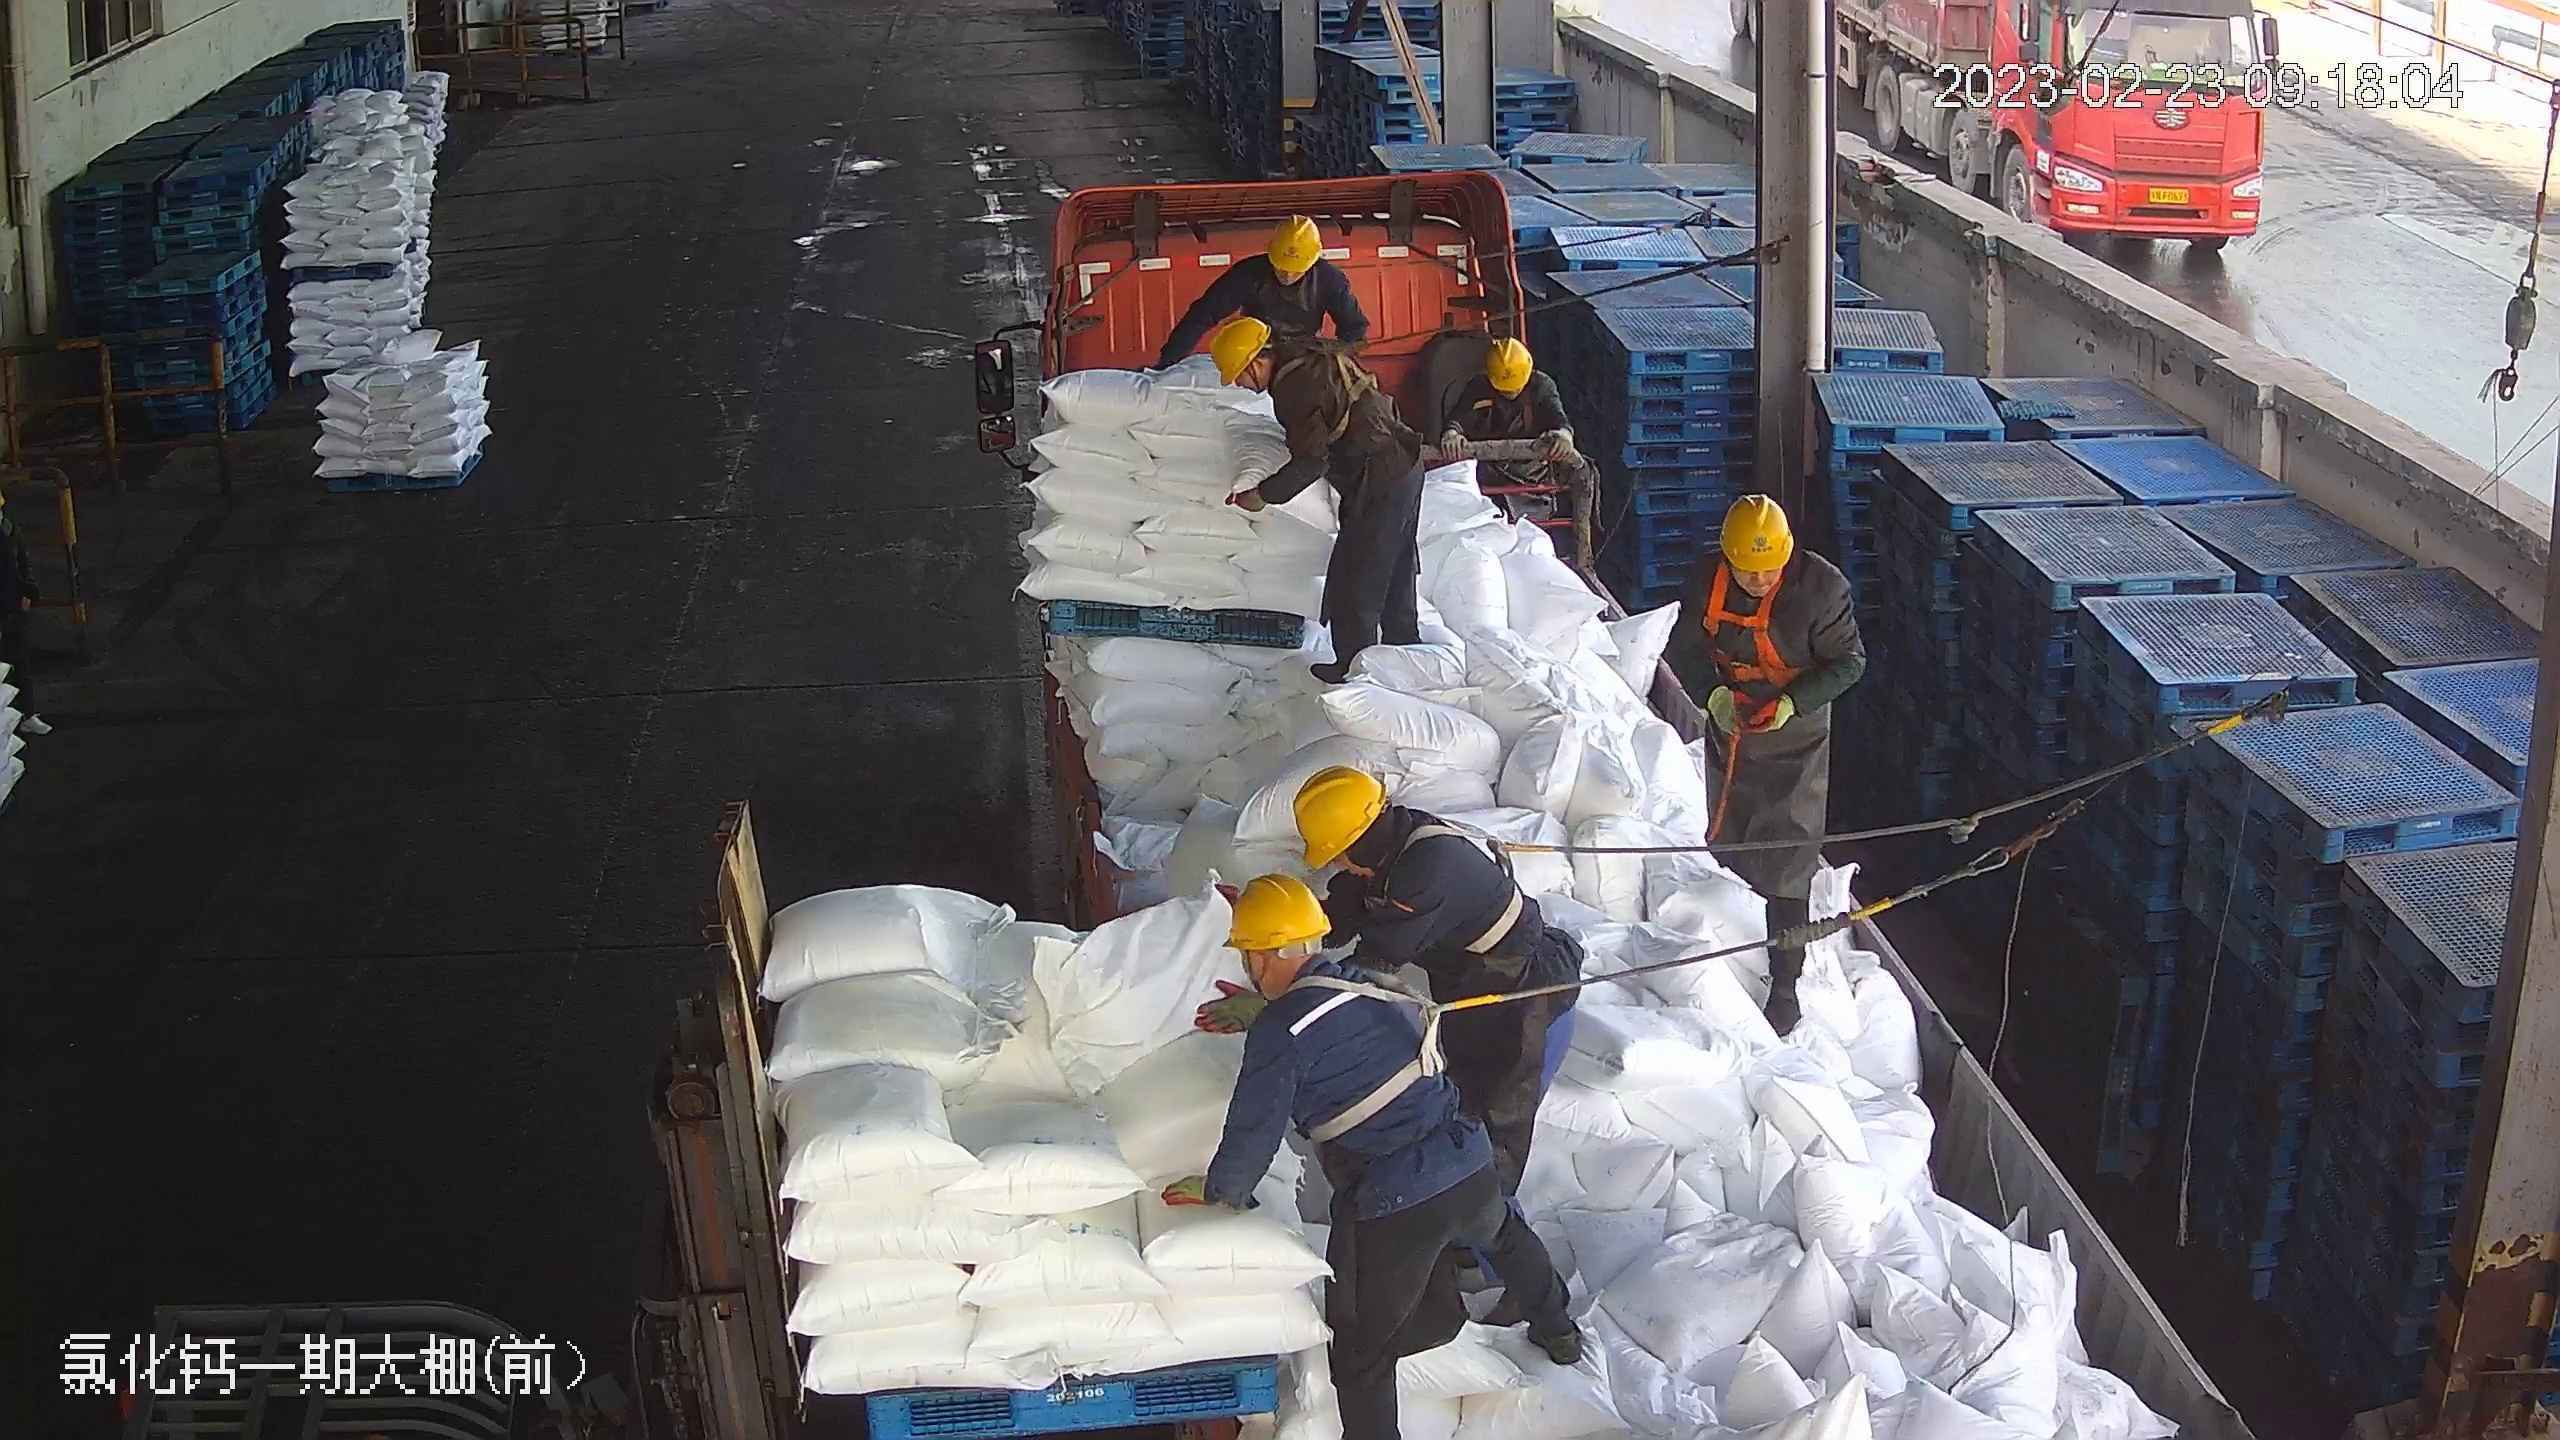belt: (1302, 977, 1484, 1137), (1399, 813, 1545, 955), (1705, 579, 1806, 694), (1279, 345, 1391, 444), (1487, 382, 1542, 437)
head: (1210, 877, 1382, 1062), (1289, 767, 1469, 912), (1686, 494, 1854, 651), (1207, 317, 1344, 426), (1243, 209, 1339, 301), (1465, 335, 1553, 412)
helmet: (1289, 762, 1388, 863), (1220, 873, 1333, 949), (1715, 491, 1795, 570), (1204, 315, 1272, 386), (1264, 213, 1327, 272), (1482, 334, 1535, 390)
people: (1175, 873, 1582, 1430), (1293, 759, 1587, 1267), (1665, 494, 1863, 1037), (1208, 320, 1428, 691), (1440, 328, 1579, 533)
truck: (981, 199, 2253, 1414), (1748, 8, 2288, 340)
